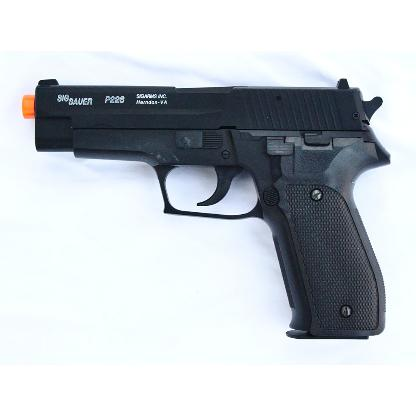gun: (23, 78, 390, 338)
